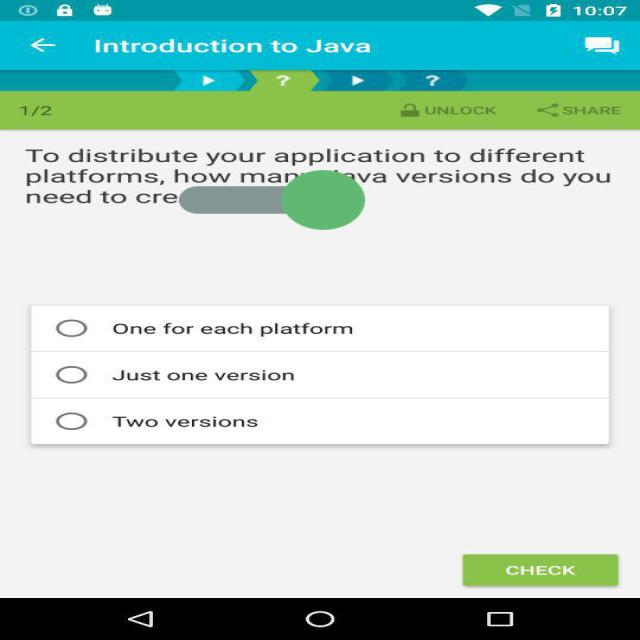social proof: (179, 133, 365, 267)
